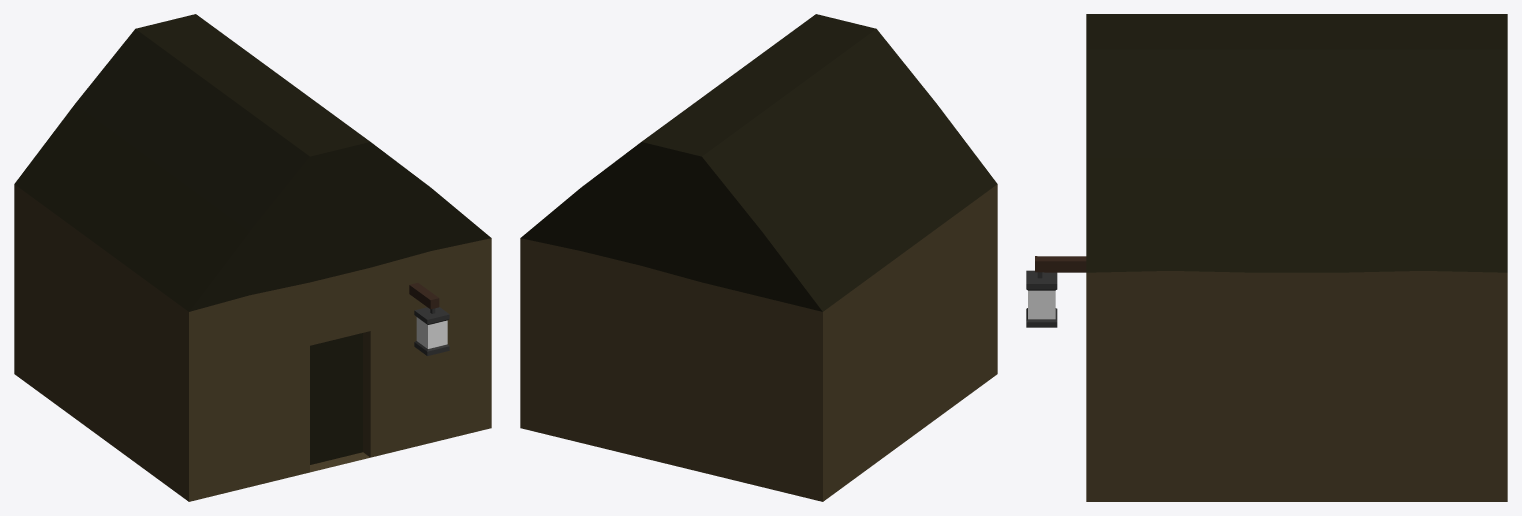
File: House.fbx
3 renders of one model, left to right at view 1: azimuth 30°, elevation 25°; view 2: azimuth 150°, elevation 25°; view 3: azimuth 270°, elevation 25°, orthographic. The views are drawn at different scales.
Visible parts, largest first — view 1: House; view 2: House; view 3: House.
Boxes of the visible parts, box(x1,y1,x2,y2) form: House: box(14, 14, 491, 501); House: box(520, 14, 997, 501); House: box(1026, 14, 1507, 501).
Bounding box in the file's own units: 228 × 199 × 200.
